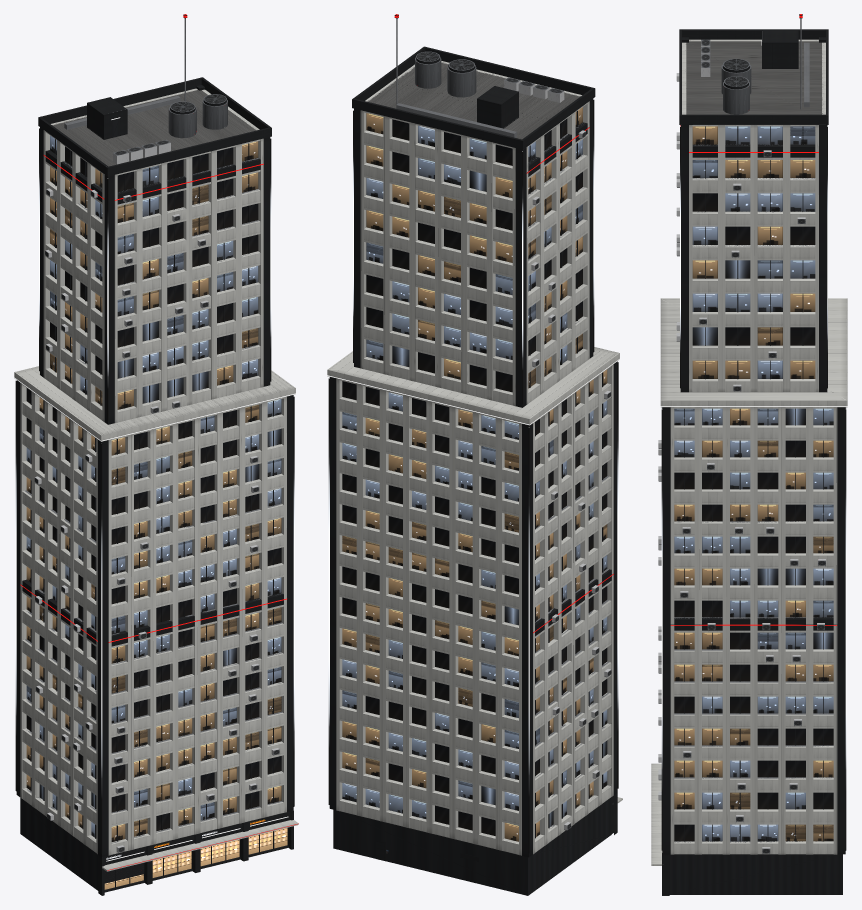
Rendered from SM_INFD_BlockC_2.fbx.
3 views of the same model, side by side, from view 1: azimuth 30°, elevation 25°; view 2: azimuth 150°, elevation 25°; view 3: azimuth 270°, elevation 25° (orthographic). The views are drawn at different scales.
Visible parts, largest first — view 1: SM_INFD_BlockC_2_LOD0; view 2: SM_INFD_BlockC_2_LOD0; view 3: SM_INFD_BlockC_2_LOD0.
Part boxes in pixels (x1,y1,x2,y2): SM_INFD_BlockC_2_LOD0: [14, 14, 298, 895]; SM_INFD_BlockC_2_LOD0: [327, 14, 622, 895]; SM_INFD_BlockC_2_LOD0: [651, 14, 847, 895].
Size of what is drawn, in the model's own units: 26.9 by 103 by 21.44.
